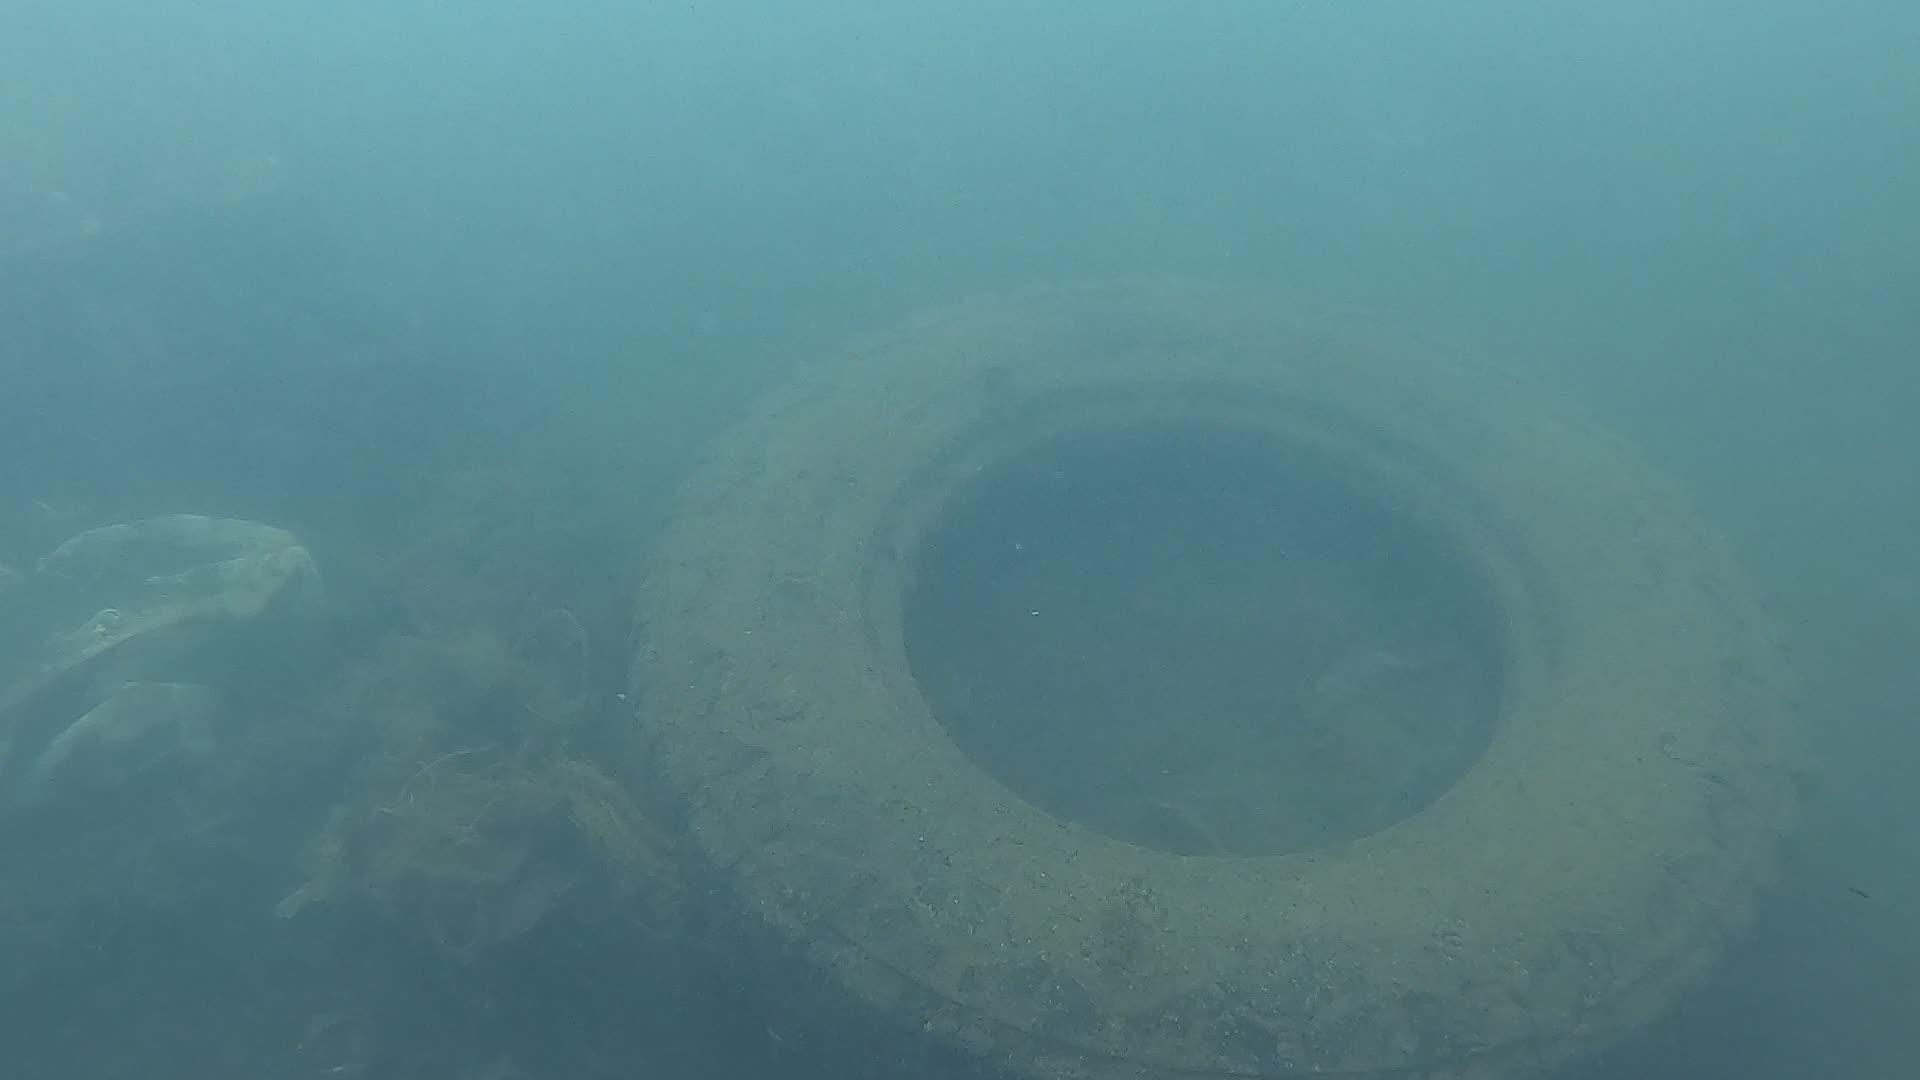tire: (628, 280, 1807, 1080)
